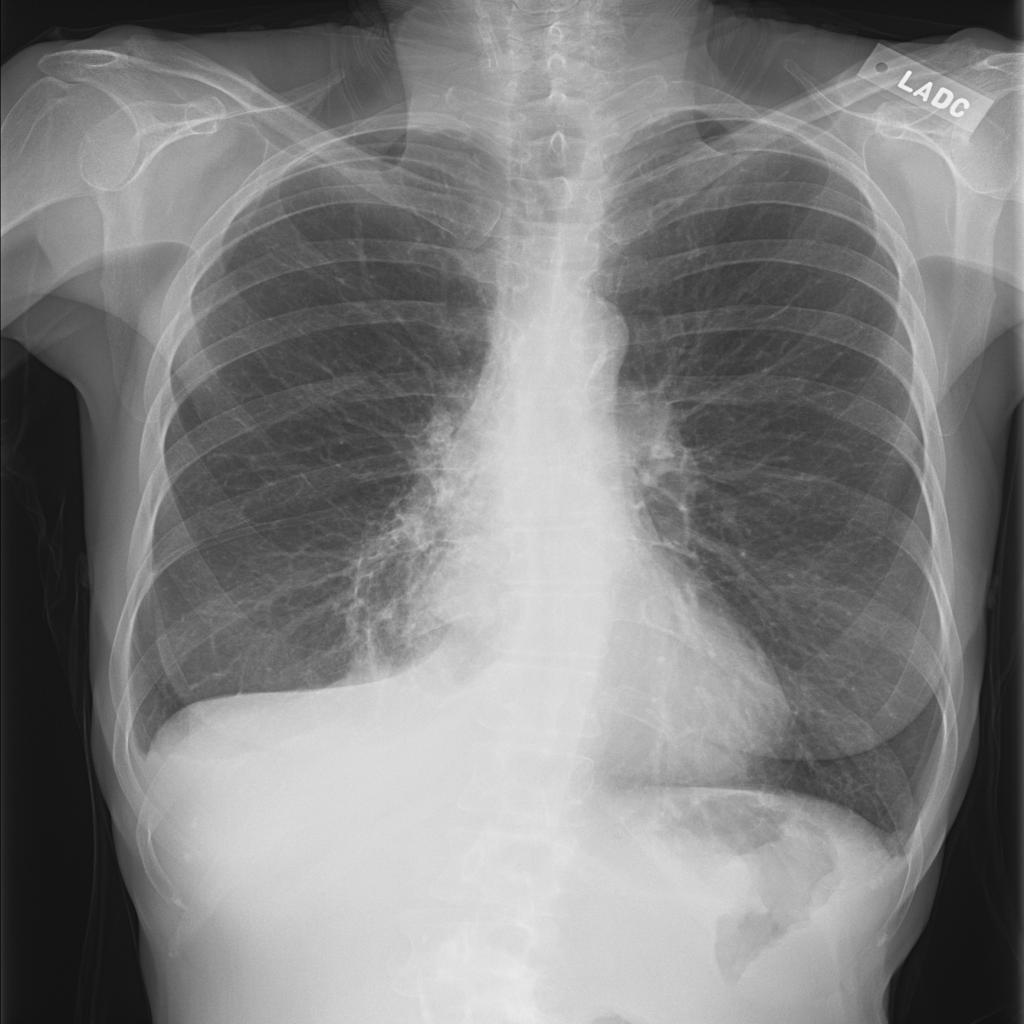Nodule: (249, 283, 297, 316)
